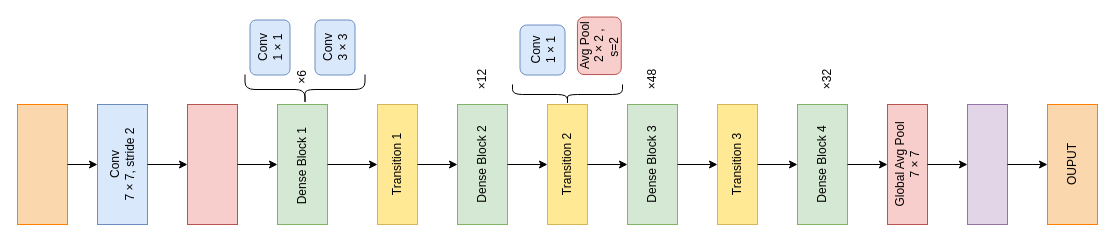
Image size: 1115x243. Some labels were removed from this diagram. Here are the shapes that lost their labels. From the top down, the centre of each, then its label:
the point at 42,164: INPUT 3 × 224 × 224
the point at 212,164: MaxPool 3 × 3, stride 2
the point at 987,164: Softmax
